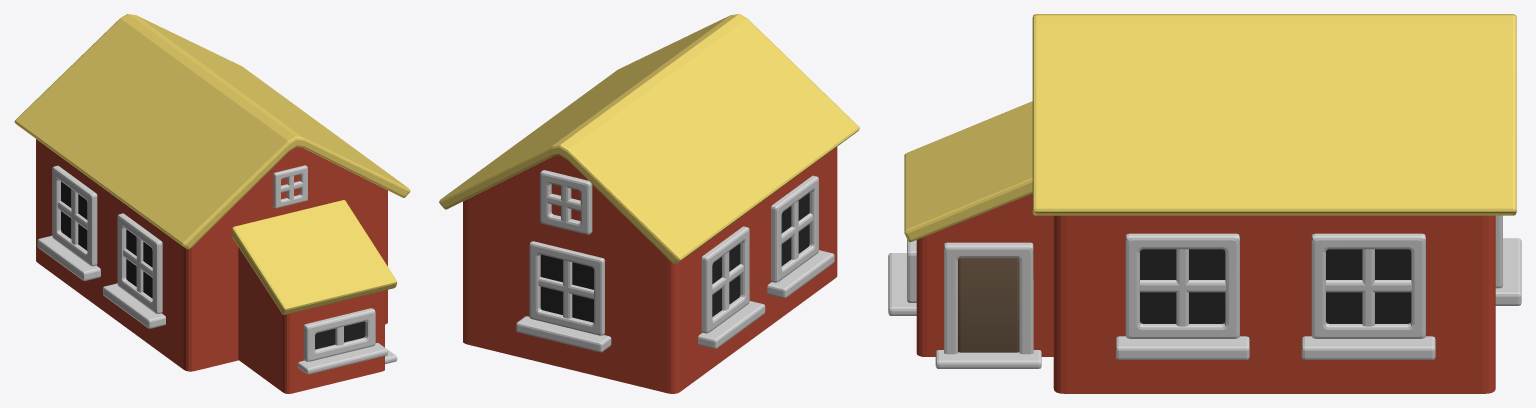
File: House_03.fbx
3 renders of one model, left to right at view 1: azimuth 30°, elevation 25°; view 2: azimuth 150°, elevation 25°; view 3: azimuth 270°, elevation 25°, orthographic. The views are drawn at different scales.
Visible parts, largest first — view 1: House_03; view 2: House_03; view 3: House_03.
Boxes of the visible parts, box(x1,y1,x2,y2) form: House_03: box(14, 14, 410, 393); House_03: box(439, 14, 859, 393); House_03: box(888, 14, 1521, 393).
Bounding box in the file's own units: 3783 × 3300 × 6148.
